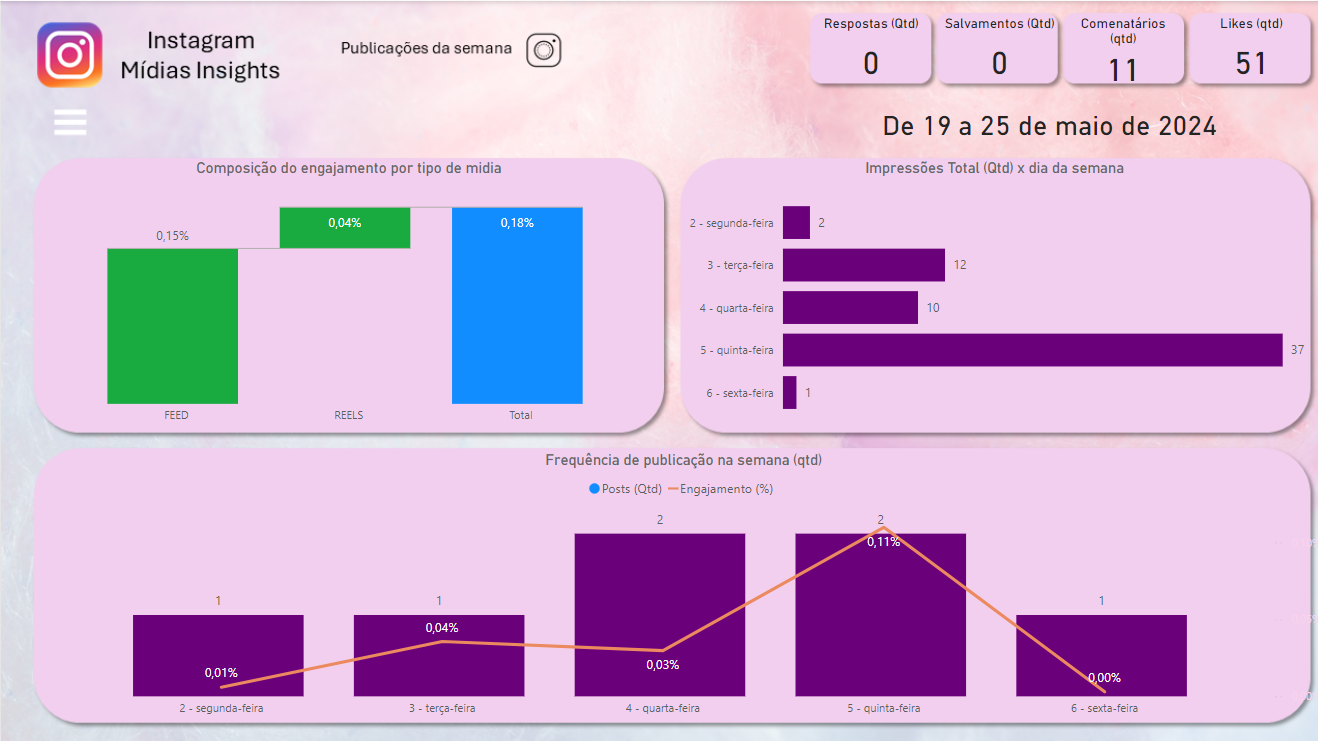

What the dashboard file says about the page in this screenshot:
{"tool":"powerbi","page":{"name":"Midias Insight","canvas":[1280,720],"ordinal":0},"visuals":[{"type":"clusteredBarChart","title":"Impressões Total (Qtd) x dia da semana","fields":{"Category":["Dim_calendario.Dia_semana"],"Y":["medidas.impressoes_total"]},"box":[654.4,152.2,610,264.4],"z":0},{"type":"card","title":"Comenatários (qtd)","fields":{"Values":["medidas.qtd_comments"]},"box":[1023,14,120,72],"z":1000},{"type":"lineStackedColumnComboChart","title":"Frequência de publicação na semana (qtd)","fields":{"Category":["Dim_calendario.Dia_semana"],"Y":["medidas.qtd_postagem"],"Y2":["medidas.engajamento_total"]},"box":[37,434,603,265],"z":2000},{"type":"lineStackedColumnComboChart","title":"Alcance total x dia da semana (qtd)","fields":{"Category":["Dim_calendario.Dia_semana"],"Y":["medidas.alcance_total"],"Y2":["medidas.alcance_dif%"]},"box":[37,152,603,265.4],"z":3000},{"type":"waterfallChart","title":"Composição do engajamento por tipo de midia","fields":{"Category":["vFactMidias.media_product_type"],"Y":["medidas.engajamento_total"]},"box":[655,433.8,608.8,265],"z":4000},{"type":"card","title":"Likes (qtd)","fields":{"Values":["medidas.qtd_likes"]},"box":[1150,14,114,72],"z":5000},{"type":"card","title":"Salvamentos (Qtd)","fields":{"Values":["medidas.total_saves"]},"box":[905,14,118,72],"z":6000},{"type":"card","title":"Respostas (Qtd)","fields":{"Values":["medidas.replies"]},"box":[782,14,116,72],"z":7000},{"type":"card","fields":{"Values":["Min(Dim_calendario.Semana_ano_descrição)"]},"box":[782.2,94.4,461.1,50],"z":9000},{"type":"actionButton","box":[37.5,95,60,50],"z":10000},{"type":"actionButton","box":[495,25,56.2,42.5],"z":13000}]}

Visuals, with their boxes in screenshot pixels (x1, y1, x2, y2), scaled from the page's 1280x720 canvas onto the 1318x741 screenshot:
"Impressões Total (Qtd) x dia da semana" clusteredBarChart: x1=674 y1=157 x2=1302 y2=429
"Comenatários (qtd)" card: x1=1053 y1=14 x2=1177 y2=89
"Frequência de publicação na semana (qtd)" lineStackedColumnComboChart: x1=38 y1=447 x2=659 y2=719
"Alcance total x dia da semana (qtd)" lineStackedColumnComboChart: x1=38 y1=156 x2=659 y2=430
"Composição do engajamento por tipo de midia" waterfallChart: x1=674 y1=446 x2=1301 y2=719
"Likes (qtd)" card: x1=1184 y1=14 x2=1302 y2=89
"Salvamentos (Qtd)" card: x1=932 y1=14 x2=1053 y2=89
"Respostas (Qtd)" card: x1=805 y1=14 x2=925 y2=89
card - Min(Dim_calendario.Semana_ano_descrição): x1=805 y1=97 x2=1280 y2=149
actionButton: x1=39 y1=98 x2=100 y2=149
actionButton: x1=510 y1=26 x2=568 y2=69
